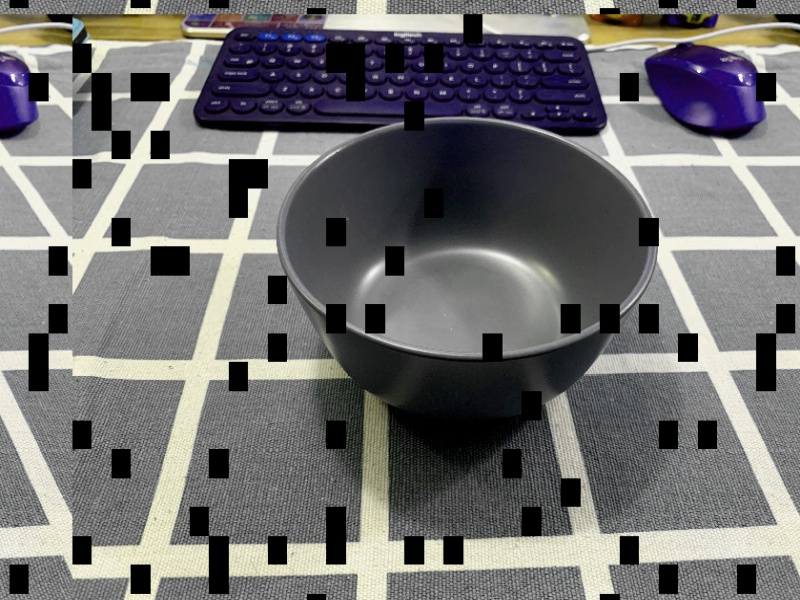bowl_big: (270, 112, 666, 428)
